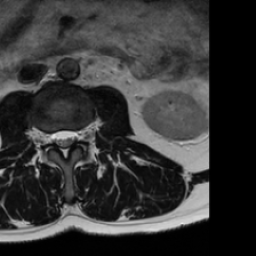CCS_normal: (60, 123, 69, 165)
LFS_normal: (78, 121, 87, 147)
LLS_normal: (70, 123, 77, 149)
RFS_normal: (43, 124, 52, 153)
RLS_normal: (52, 124, 60, 155)
